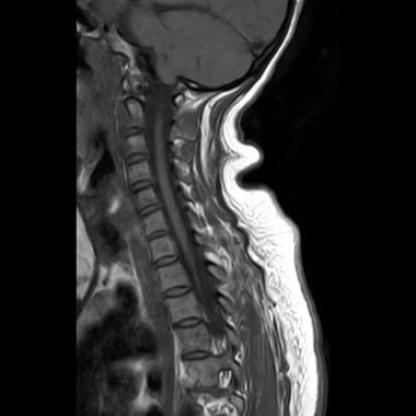Degenerative Disc Diseaserotation: (146, 226, 173, 242)
